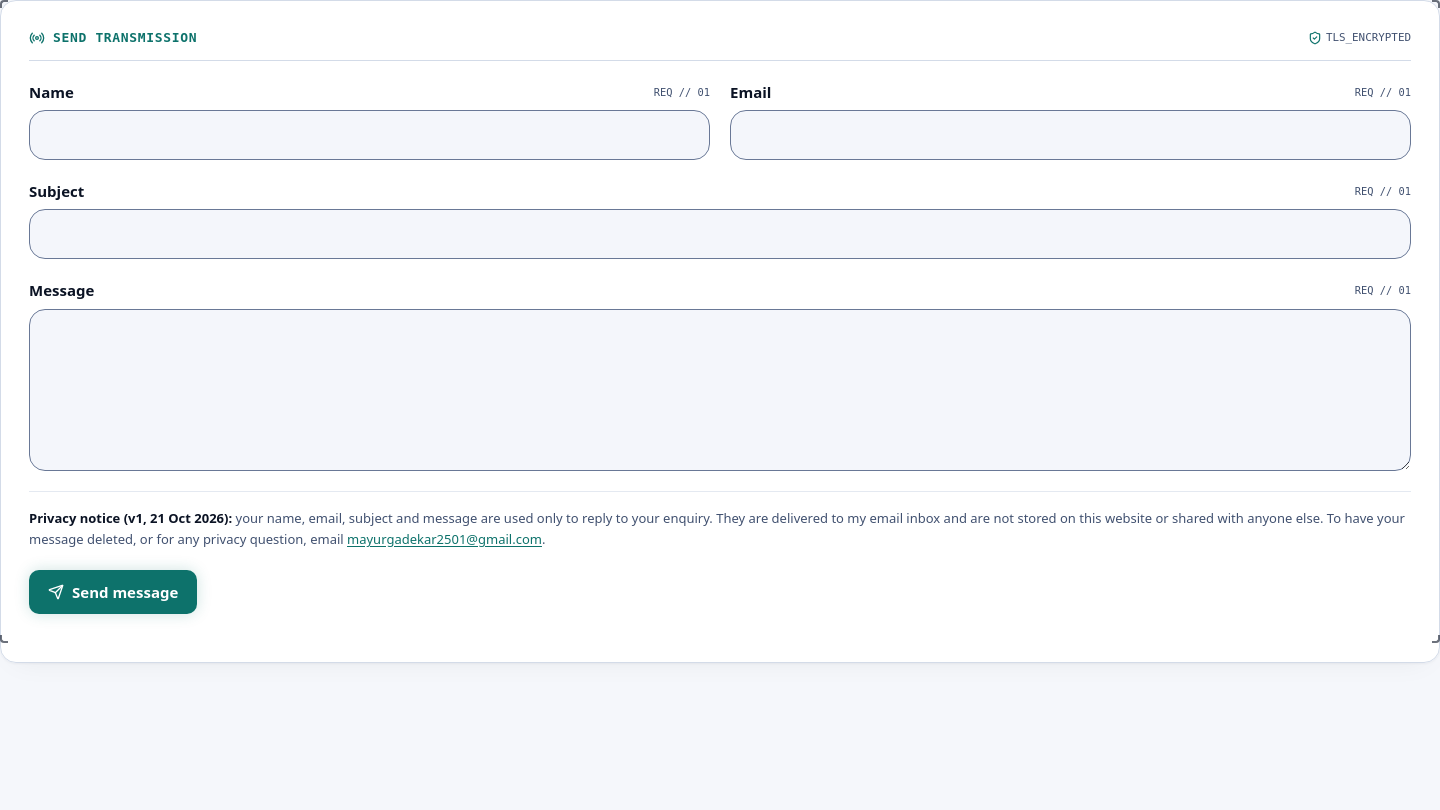
Test: contact form › maps server validation errors onto the matching field
Type "Asha" into the field labelled "Name". click: coordinates (370, 135)
box: [29, 110, 710, 160]
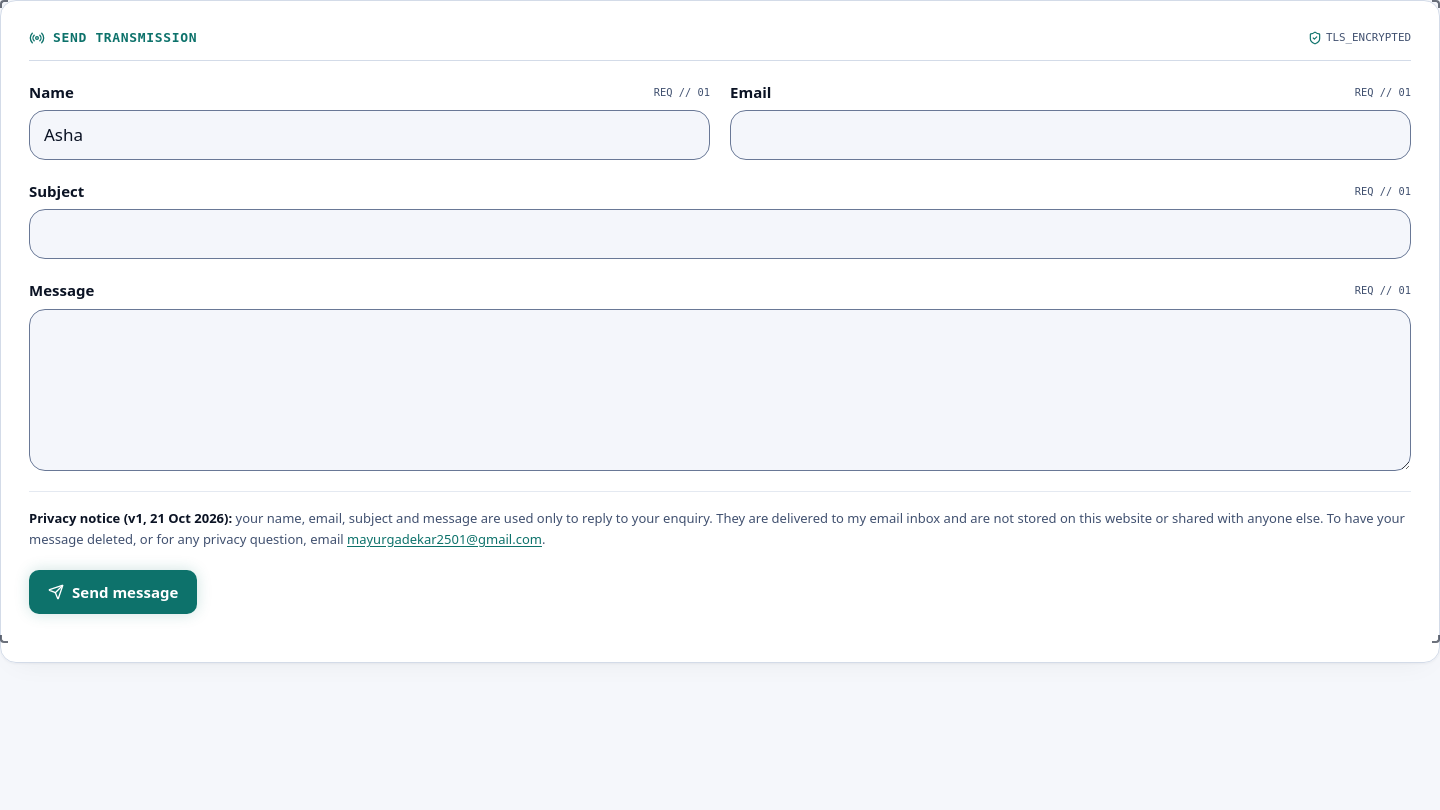
Type "asha@example.com" into the field labelled "Email". click: coordinates (1070, 135)
box: [730, 110, 1411, 160]
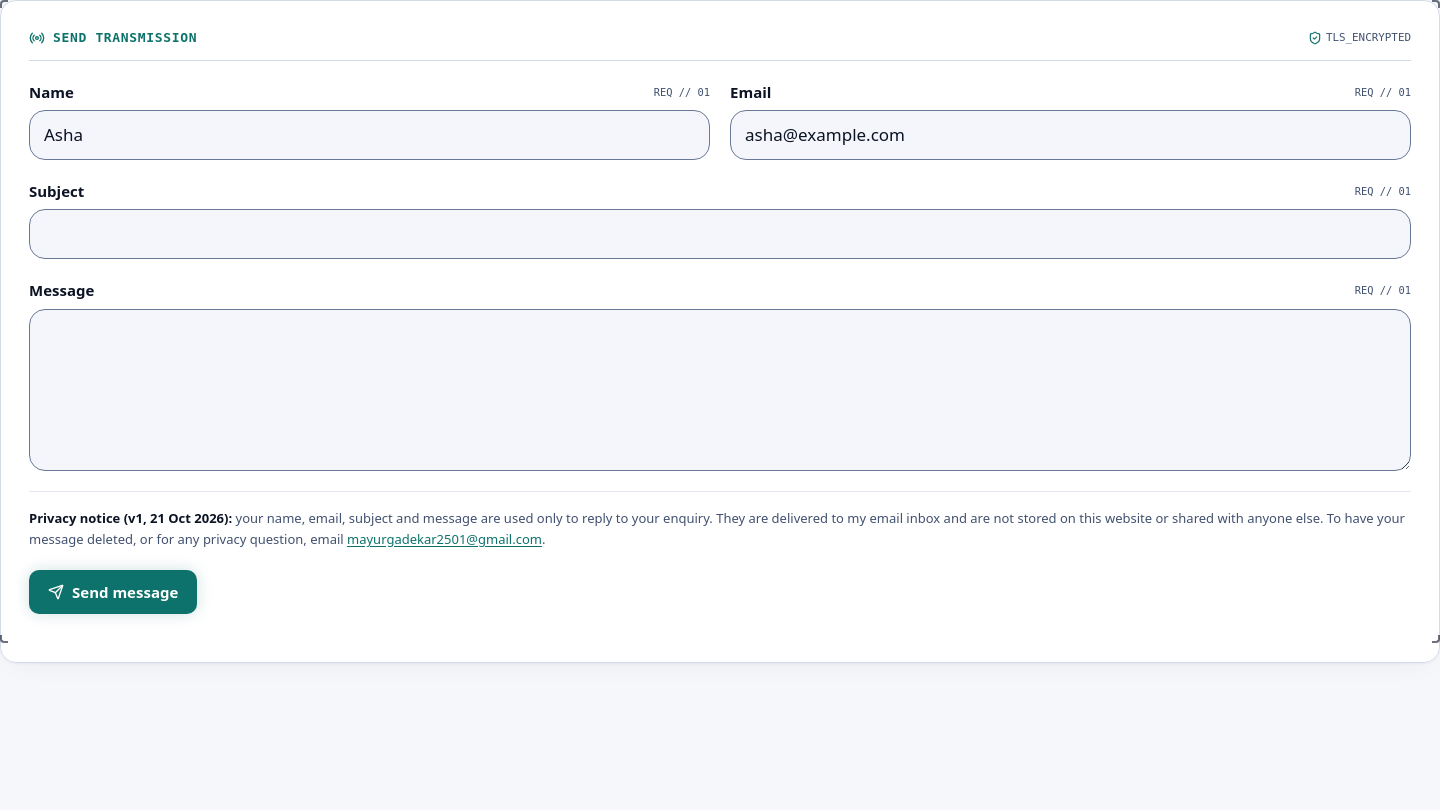
Type "Hello" into the field labelled "Subject". click: coordinates (720, 234)
box: [29, 209, 1411, 259]
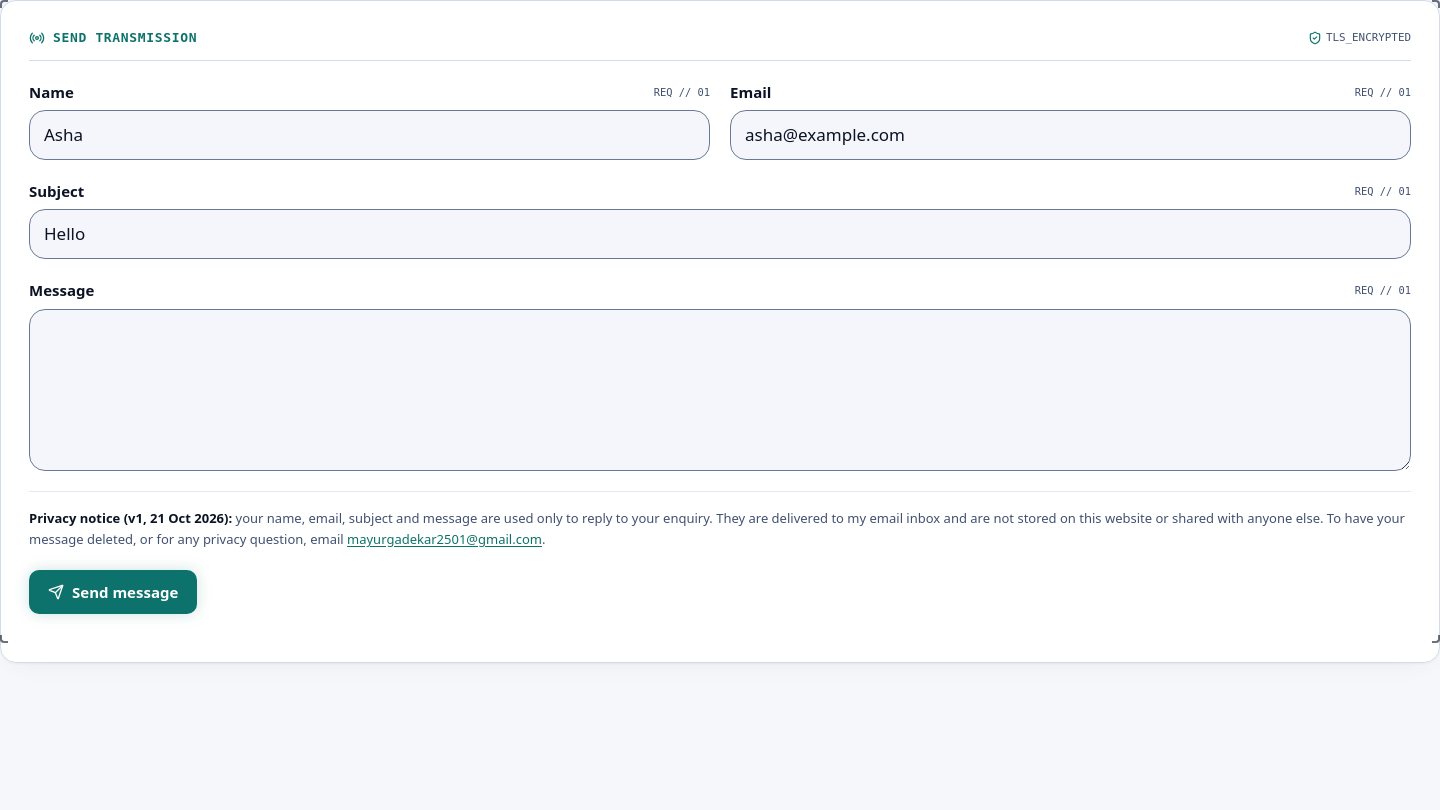
Type "Hi there" into the text box labelled "Message". click: coordinates (720, 390)
box: [29, 309, 1411, 471]
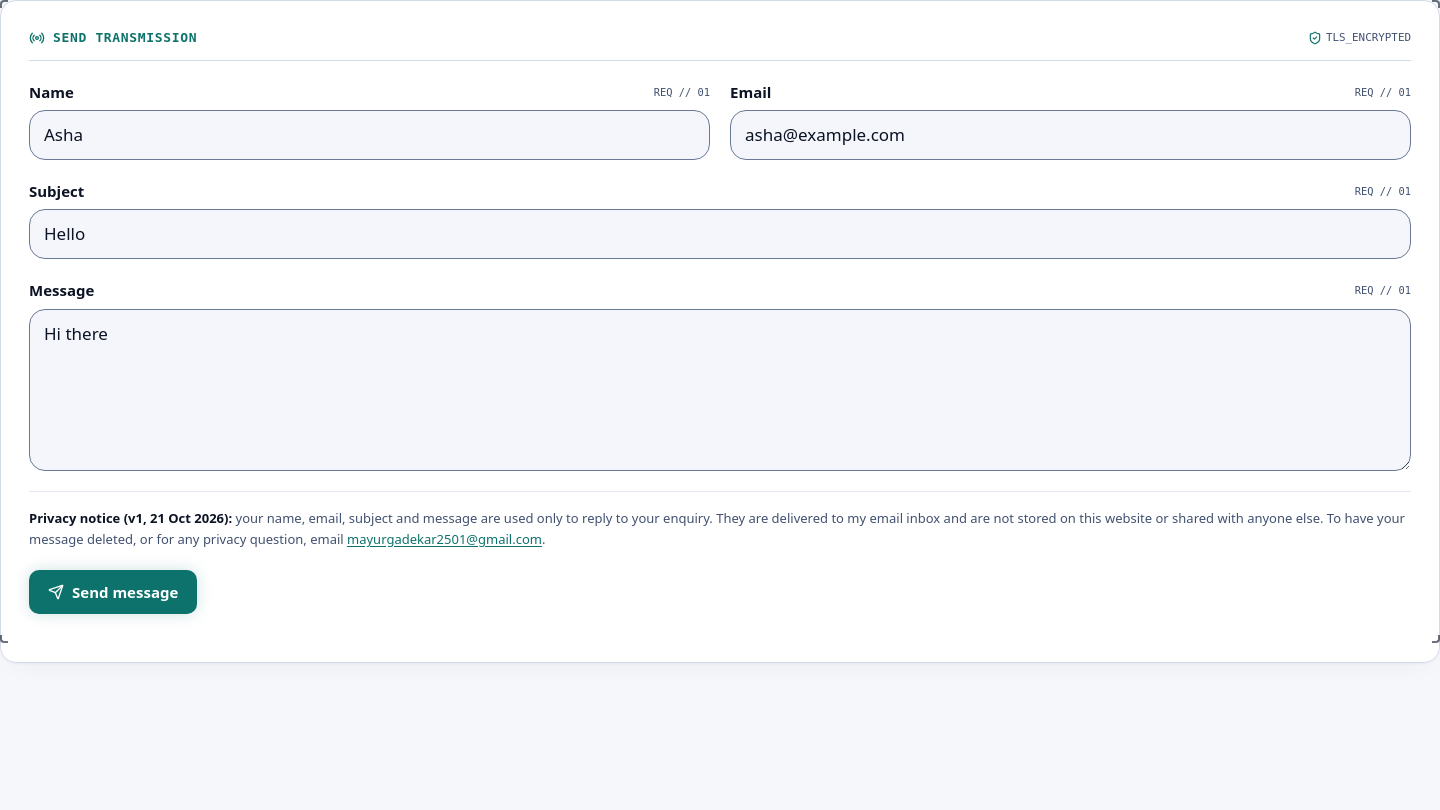
Click the button "Send message". click: coordinates (113, 592)
box: [29, 570, 197, 614]
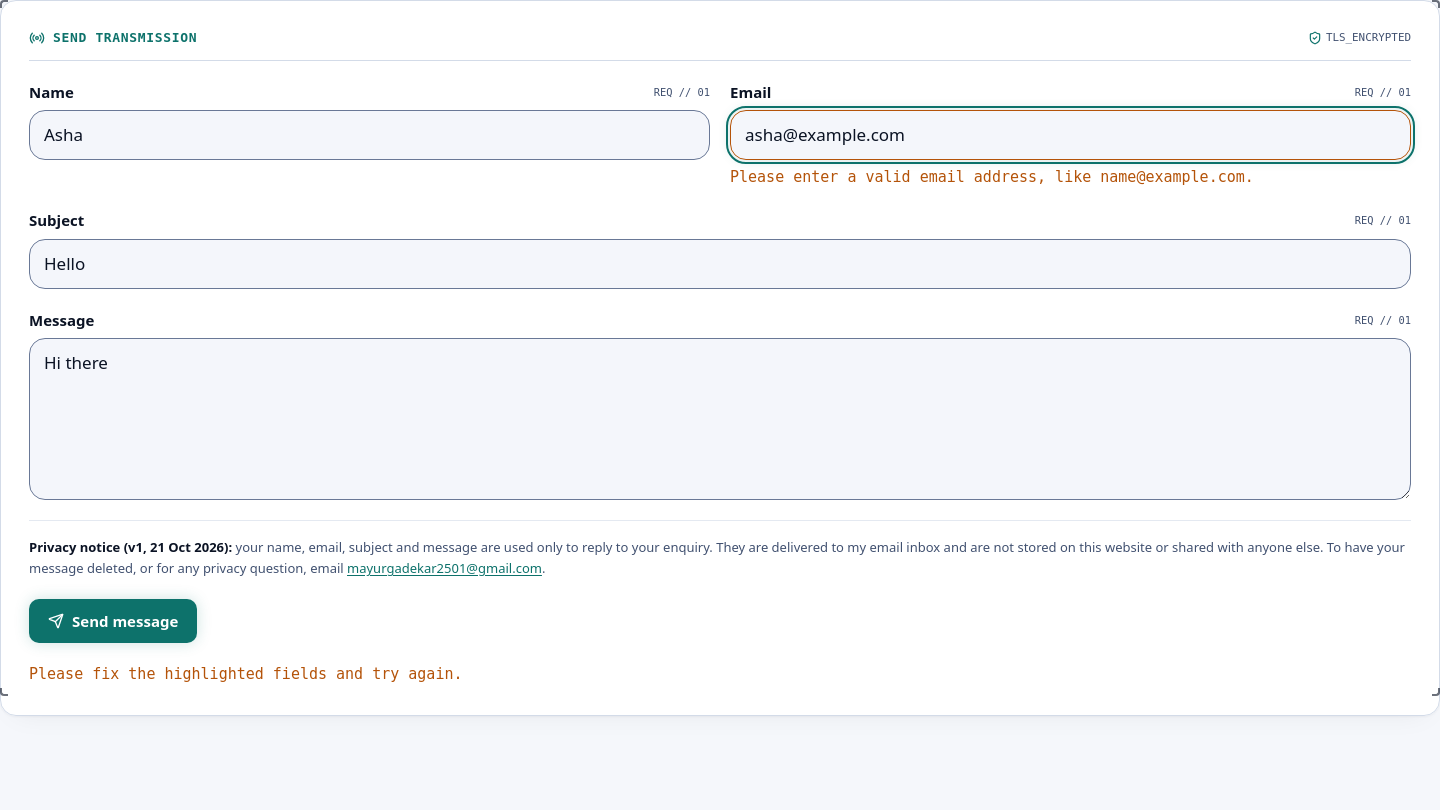
Expected: the text "Please enter a valid email address, like name@example.com." is shown, [730, 168, 1254, 186]
Expected: the message reads "Please fix the highlighted fields and try again.", [29, 665, 462, 683]
